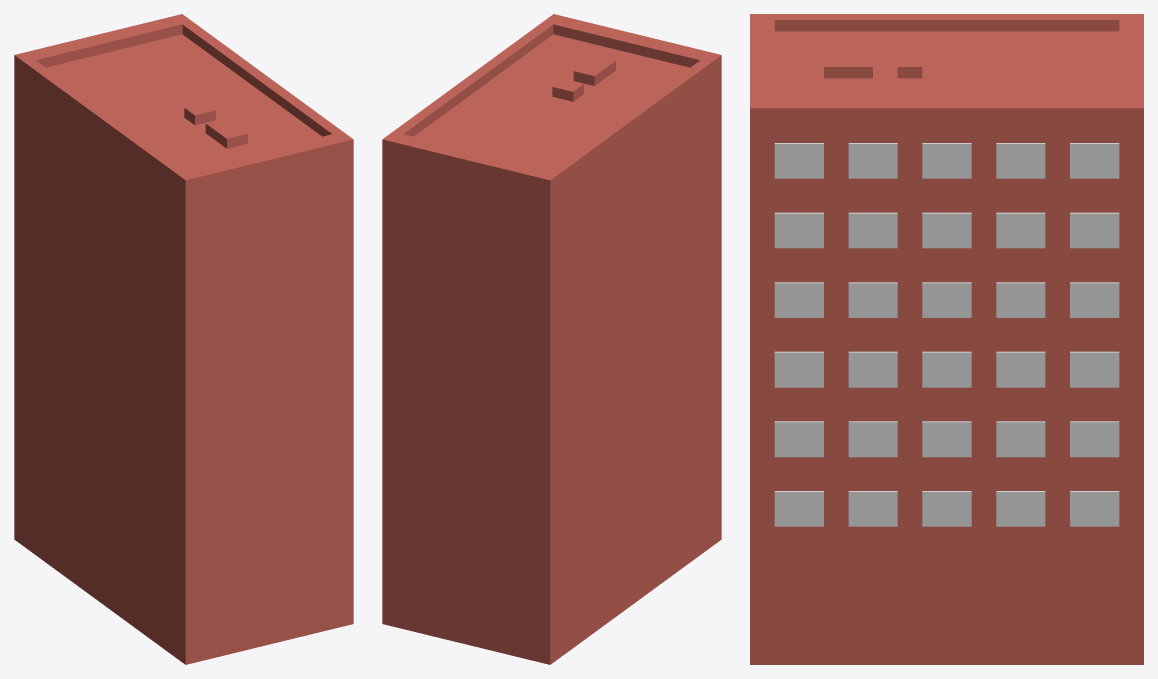
Rendered from predio7.fbx.
3 renders of one model, left to right at view 1: azimuth 30°, elevation 25°; view 2: azimuth 150°, elevation 25°; view 3: azimuth 270°, elevation 25°, orthographic. The views are drawn at different scales.
Parts seen in each view (by area): view 1: Cube; view 2: Cube; view 3: Cube.
Part boxes in pixels (x1,y1,x2,y2): Cube: [14, 14, 353, 664]; Cube: [382, 14, 721, 664]; Cube: [750, 14, 1143, 664].
Size of the model in its own units: 419 by 1143 by 733.
